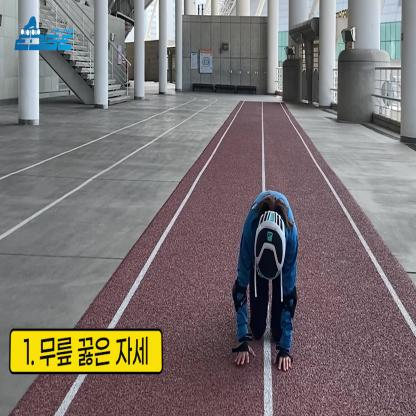Fall_Down: (232, 192, 299, 372)
